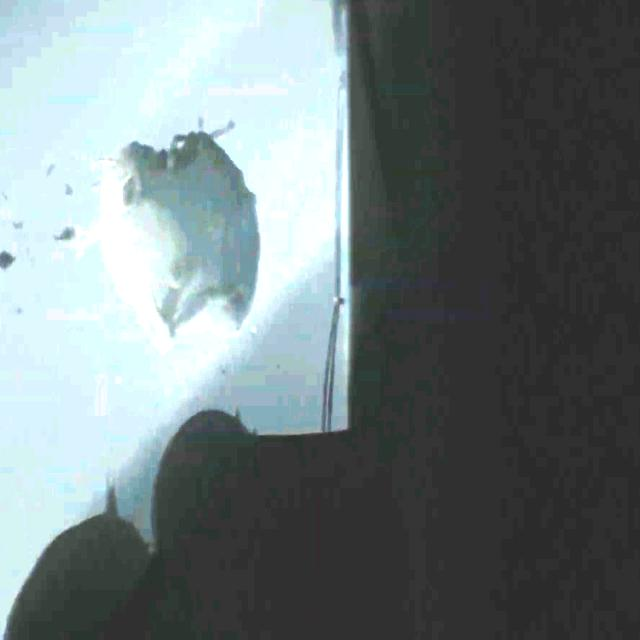blob: (77, 109, 261, 351)
